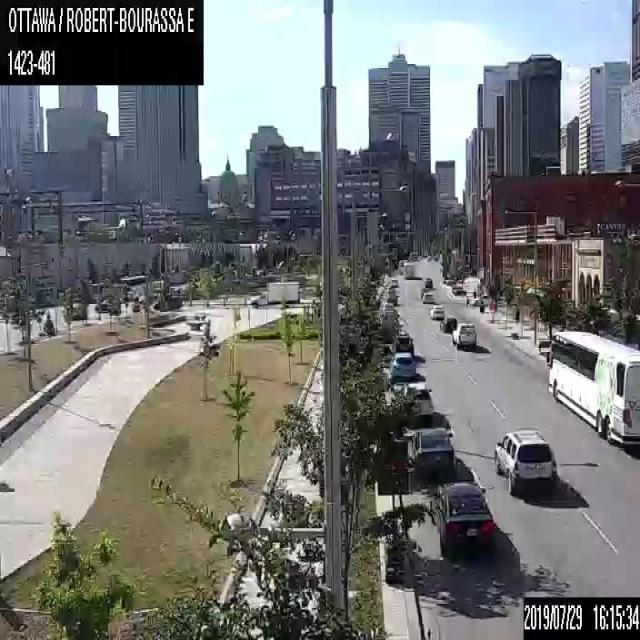bus: (545, 328, 639, 444)
construction: (376, 440, 408, 585)
vehicle: (433, 481, 495, 555), (493, 425, 555, 496), (410, 426, 455, 486), (249, 279, 298, 308), (402, 380, 434, 417), (389, 352, 416, 380), (453, 322, 475, 346), (391, 336, 413, 353), (439, 315, 457, 333), (428, 302, 444, 319), (403, 260, 414, 278), (471, 294, 488, 305), (421, 291, 434, 303), (398, 258, 407, 275), (425, 277, 432, 289)
